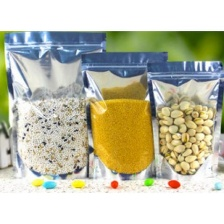snack: (0, 31, 110, 183), (76, 47, 172, 184), (142, 55, 224, 186)
